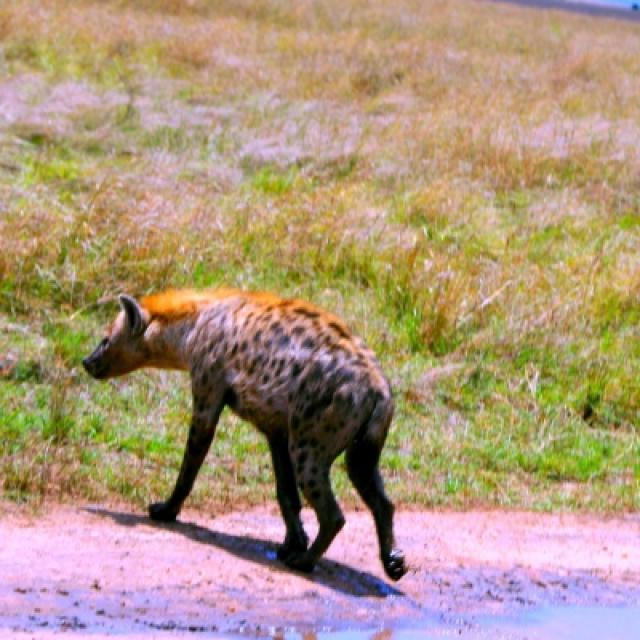hyena: (82, 288, 406, 582)
